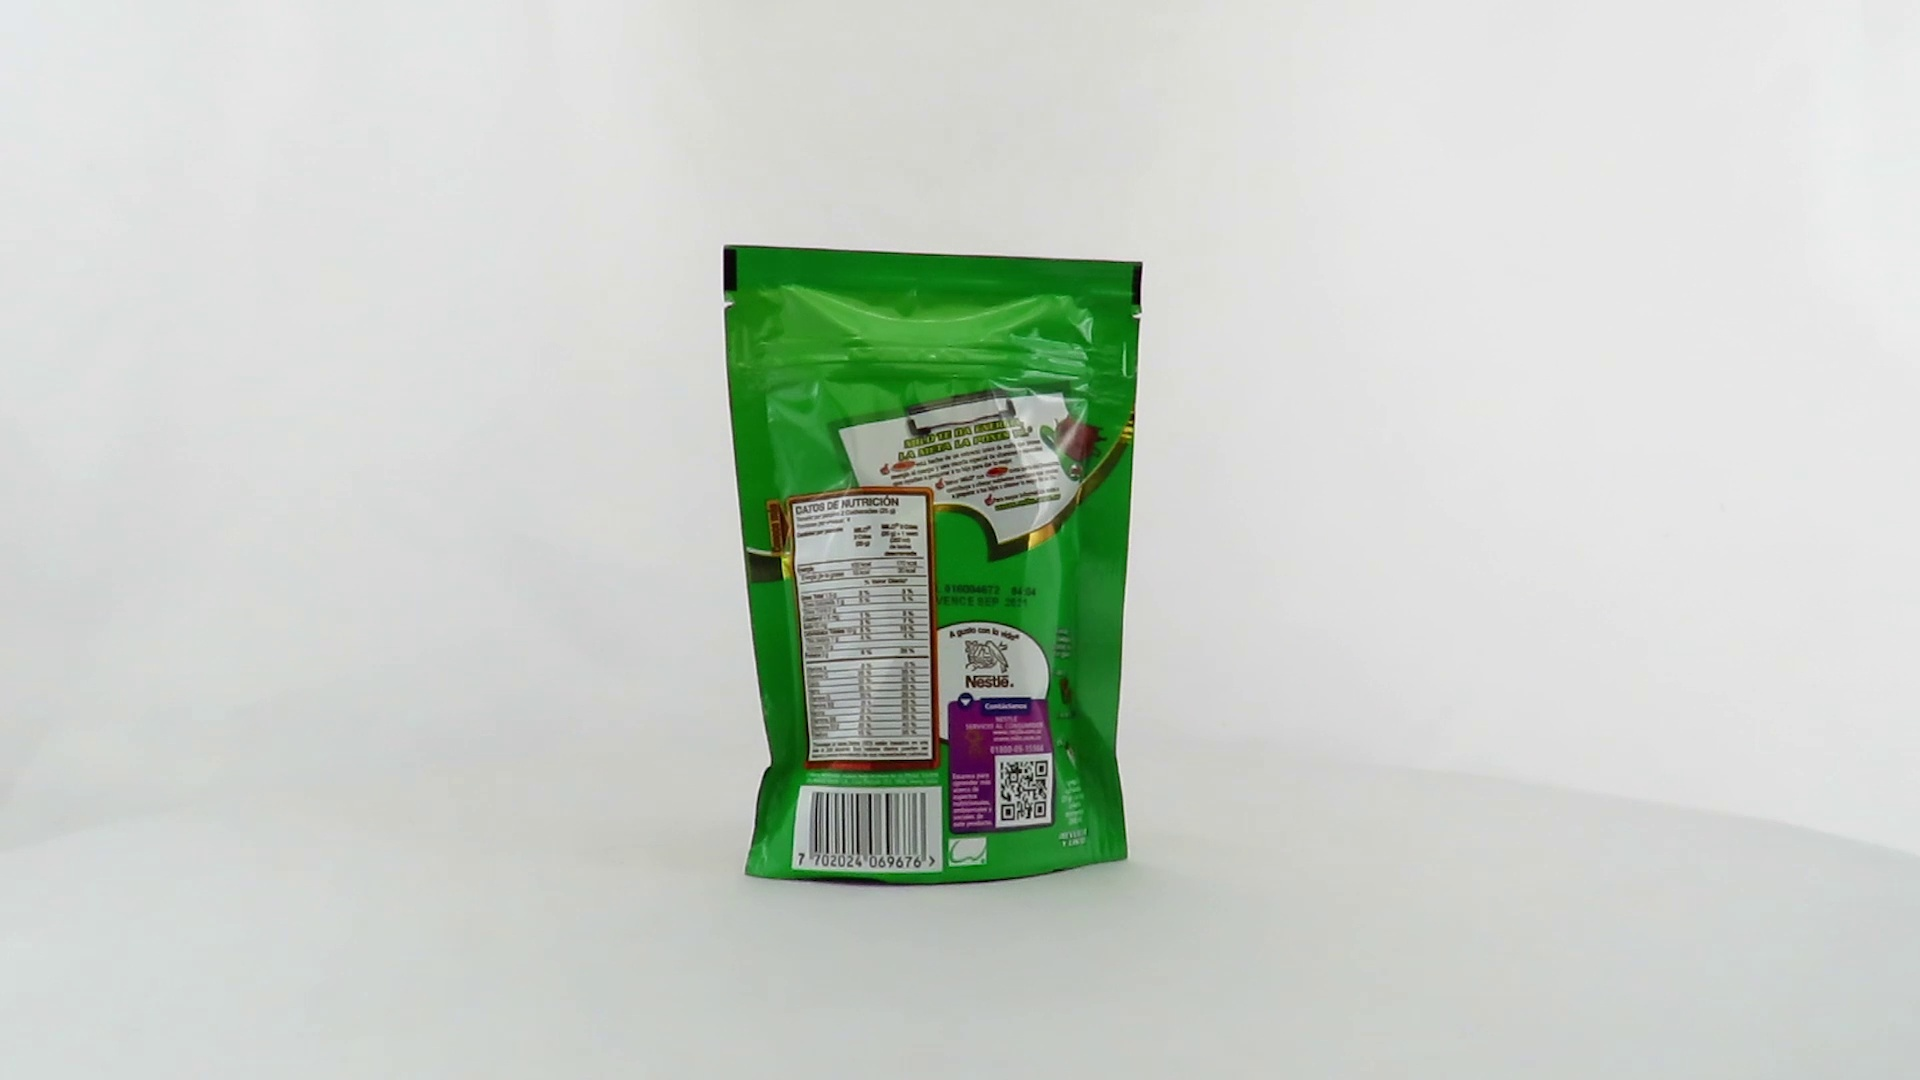COL0170203DYP10000: (717, 239, 1149, 893)
